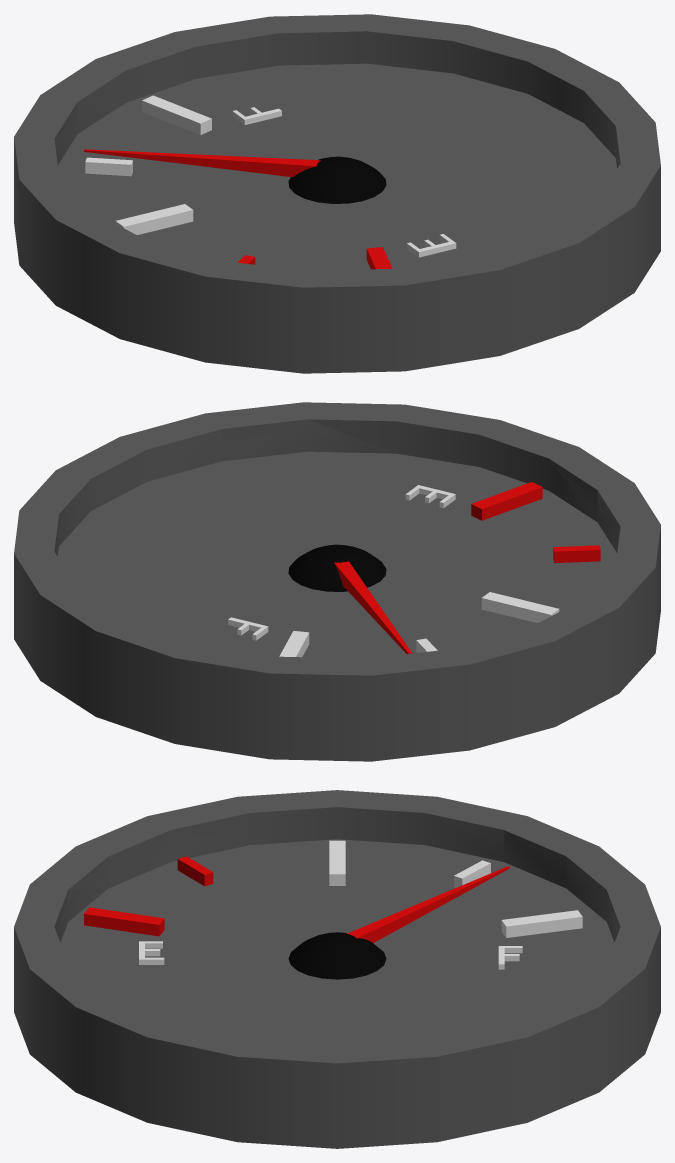
The model's file is fuelGauge.fbx.
The picture shows the model from 3 angles, top to bottom: view 1: azimuth 30°, elevation 25°; view 2: azimuth 150°, elevation 25°; view 3: azimuth 270°, elevation 25°; orthographic projection.
Visible parts, largest first — view 1: pCylinder3, pSphere1, fuelGaugeArrow, pasted__pCube1, pCube1, pasted__pCube2, pasted__typeMesh1; view 2: pCylinder3, pSphere1, fuelGaugeArrow, pasted__pasted__pCube1, pCube1, pCube2, pasted__typeMesh1, pasted__pCube1; view 3: pCylinder3, pSphere1, fuelGaugeArrow, pasted__pCube1, pasted__pasted__pCube1, pCube1, pCube2, pasted__typeMesh1, pasted__pCube2.
Part boxes in pixels (x1,y1,x2,y2): pCylinder3: (14, 14, 660, 373); pSphere1: (288, 156, 386, 203); fuelGaugeArrow: (84, 149, 320, 177); pasted__pCube1: (142, 95, 211, 135); pCube1: (115, 204, 193, 235); pasted__pCube2: (85, 157, 132, 176); pasted__typeMesh1: (406, 234, 456, 257); pCylinder3: (14, 402, 660, 761); pSphere1: (288, 544, 386, 591); fuelGaugeArrow: (334, 561, 412, 653); pasted__pasted__pCube1: (471, 482, 542, 520); pCube1: (481, 592, 559, 623); pCube2: (553, 545, 600, 563); pasted__typeMesh1: (405, 485, 455, 508); pasted__pCube1: (279, 631, 309, 657); pCylinder3: (14, 790, 660, 1148); pSphere1: (288, 932, 386, 979); fuelGaugeArrow: (347, 866, 509, 942); pasted__pCube1: (501, 910, 582, 937); pasted__pasted__pCube1: (84, 907, 164, 936); pCube1: (329, 840, 345, 885); pCube2: (177, 856, 213, 886); pasted__typeMesh1: (139, 941, 164, 964); pasted__pCube2: (454, 860, 490, 887).
Bounding box in the file's own units: 4 × 0.5828 × 4.
